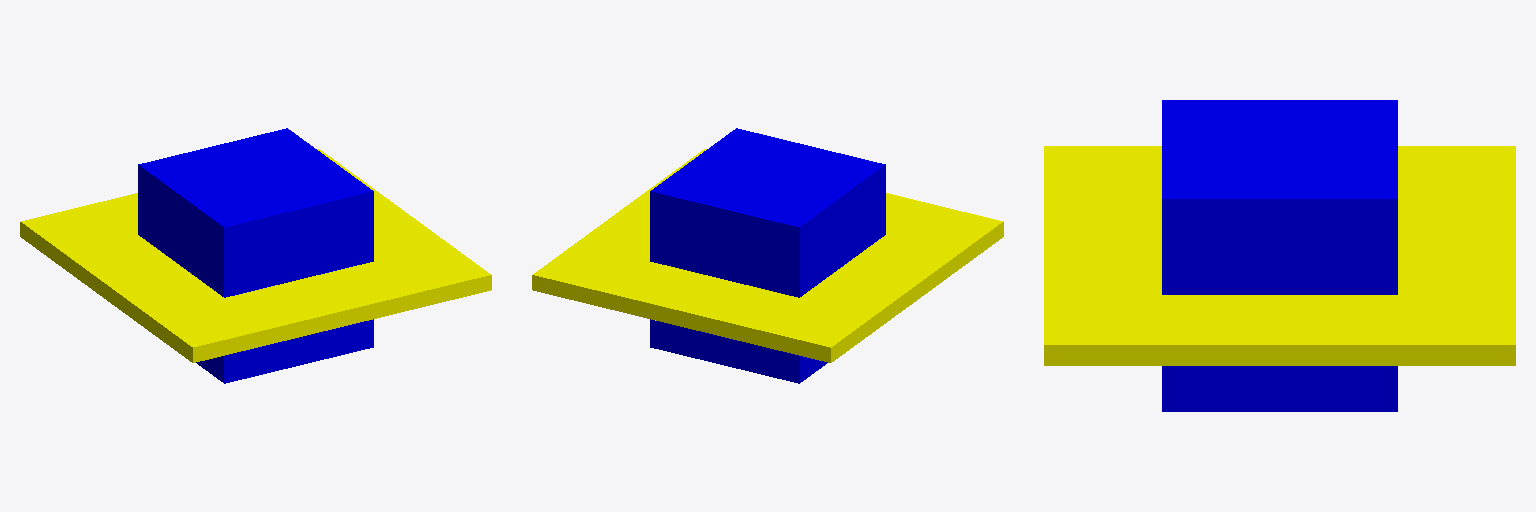
The robot description file, URDF, robot "test_1":
<?xml version="1.0" encoding="utf-8"?>
<!-- =================================================================================== -->
<!-- |    This document was autogenerated by xacro from test1.xacro                    | -->
<!-- |    EDITING THIS FILE BY HAND IS NOT RECOMMENDED                                 | -->
<!-- =================================================================================== -->
<robot name="test_1">
  <link name="base">
    <visual>
      <geometry>
        <box size="0.2 0.2 0.01"/>
      </geometry>
      <origin rpy="0 0 0" xyz="0 0 0"/>
      <material name="yellow">
        <color rgba="1 1 0 1"/>
      </material>
    </visual>
  </link>
  <joint name="base_joint" type="fixed">
    <parent link="base"/>
    <child link="BOX"/>
  </joint>
  <link name="BOX">
    <visual>
      <geometry>
        <box size="0.1 0.1 0.1"/>
      </geometry>
      <origin rpy="0 0 0" xyz="0 0 0"/>
      <material name="red">
        <color rgba="0 0 1 1"/>
      </material>
    </visual>
  </link>
</robot>

--- Render facts (derived) ---
3 views of the same robot in one strip: view 1: azimuth 30°, elevation 25°; view 2: azimuth 150°, elevation 25°; view 3: azimuth 270°, elevation 25° (orthographic).
Model test_1 with 2 links and 1 joints (1 fixed), rooted at base, posed every joint at zero.
Links seen in each view (by area): view 1: BOX, base; view 2: BOX, base; view 3: base, BOX.
Link boxes in pixels (x1=…): BOX: x1=138, y1=128, x2=373, y2=383; base: x1=20, y1=149, x2=491, y2=362; BOX: x1=650, y1=128, x2=885, y2=383; base: x1=532, y1=149, x2=1003, y2=362; base: x1=1044, y1=146, x2=1515, y2=365; BOX: x1=1162, y1=100, x2=1397, y2=411.
Size in the robot's own frame: 0.2 by 0.2 by 0.1 metres.
Geometry: primitives only (box / cylinder / sphere), no mesh files.
